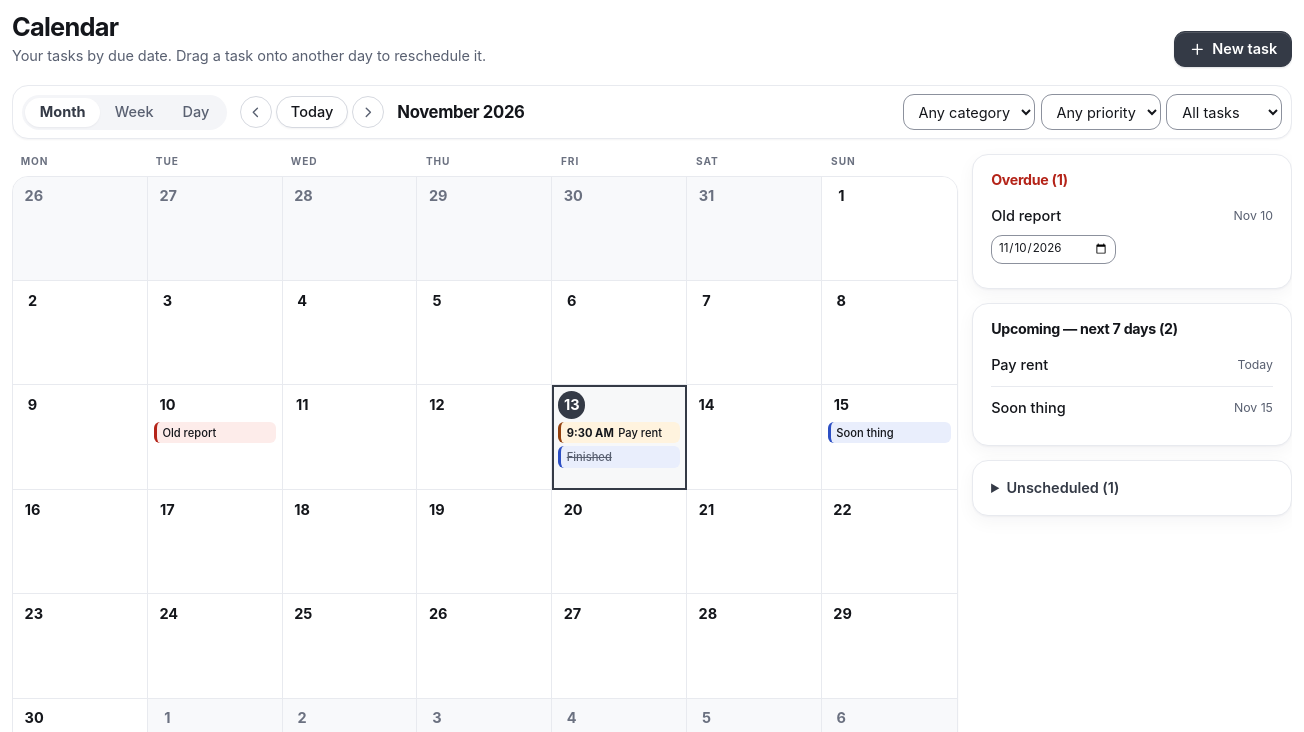
it: Calendar › filters by category, priority and status
Expected: the button "Pay rent" is shown, x1=558 y1=422 x2=680 y2=444
Select "Home" in the dropdown named "Filter by category" at (969, 112), box x1=903 y1=94 x2=1035 y2=130
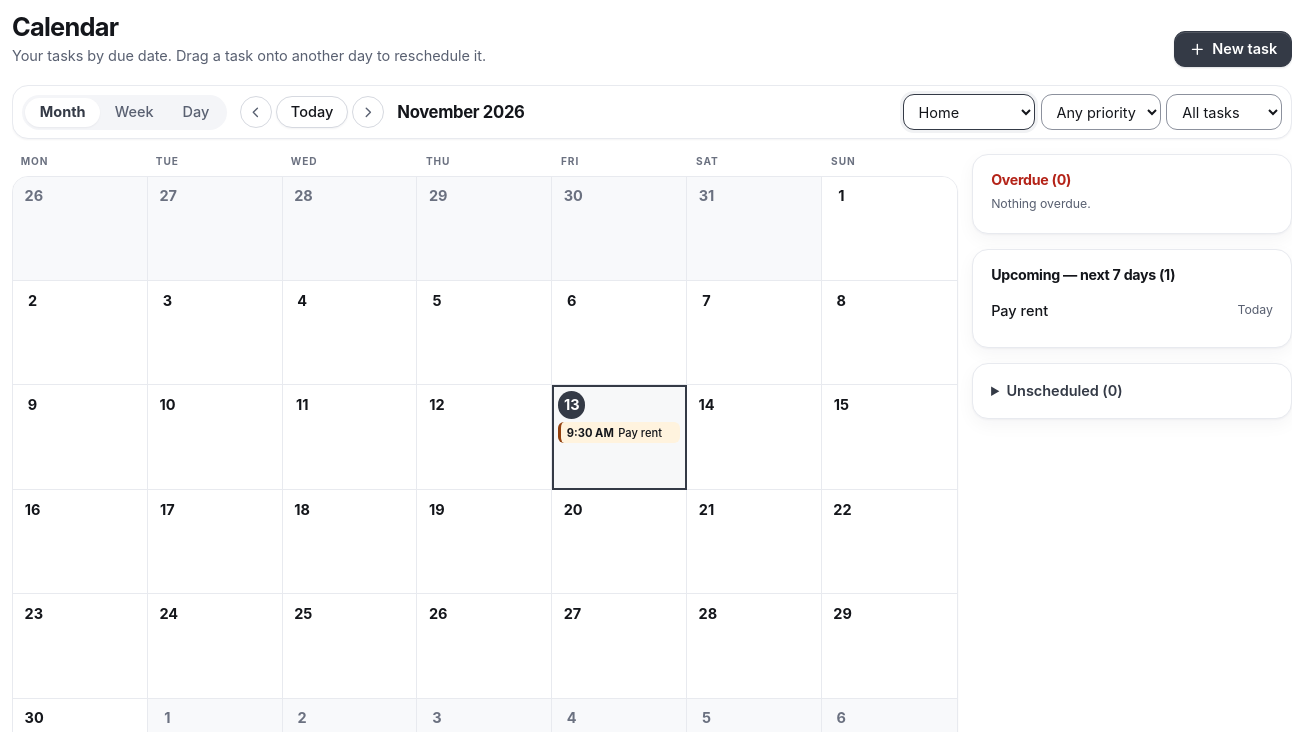
Expected: the button "Pay rent" is shown, x1=558 y1=422 x2=680 y2=444
Expected: the button "Finished" is gone
Select "Any category" in the dropdown named "Filter by category" at (969, 112), box x1=903 y1=94 x2=1035 y2=130
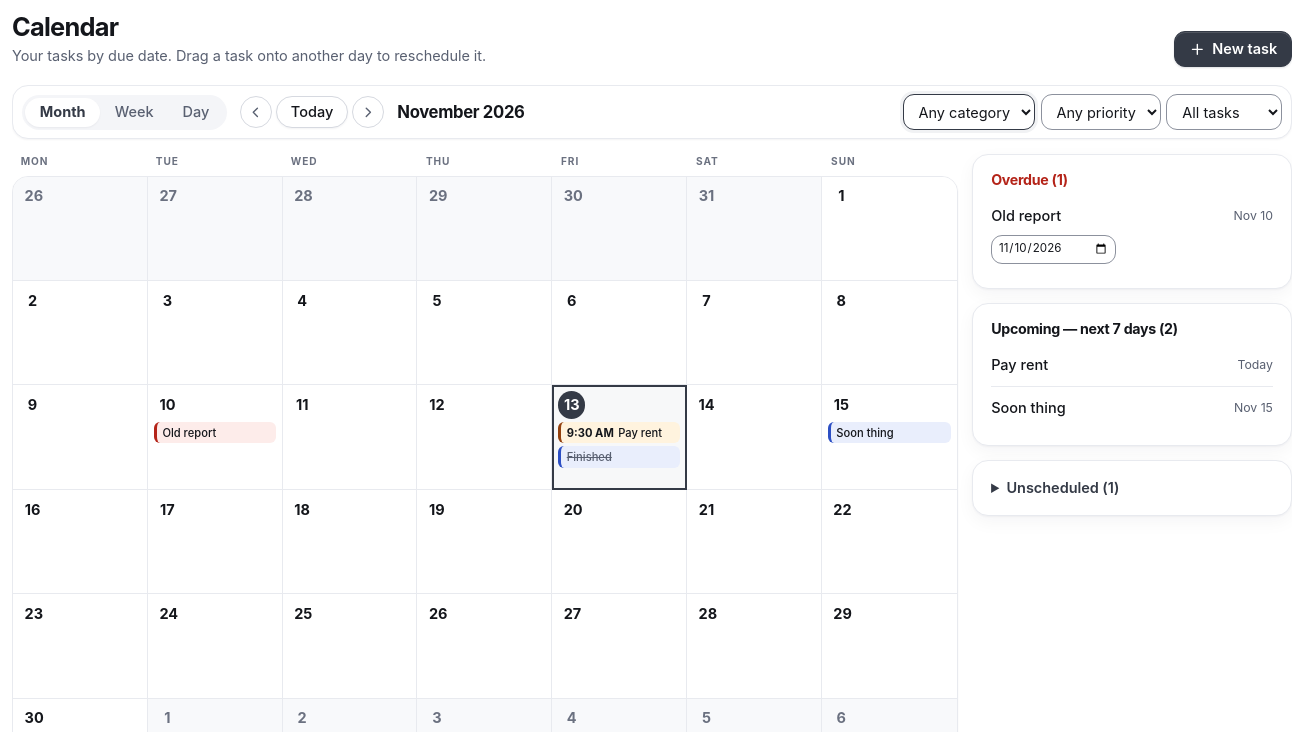
Select "Urgent" in the dropdown named "Filter by priority" at (1101, 112), box x1=1040 y1=94 x2=1161 y2=130
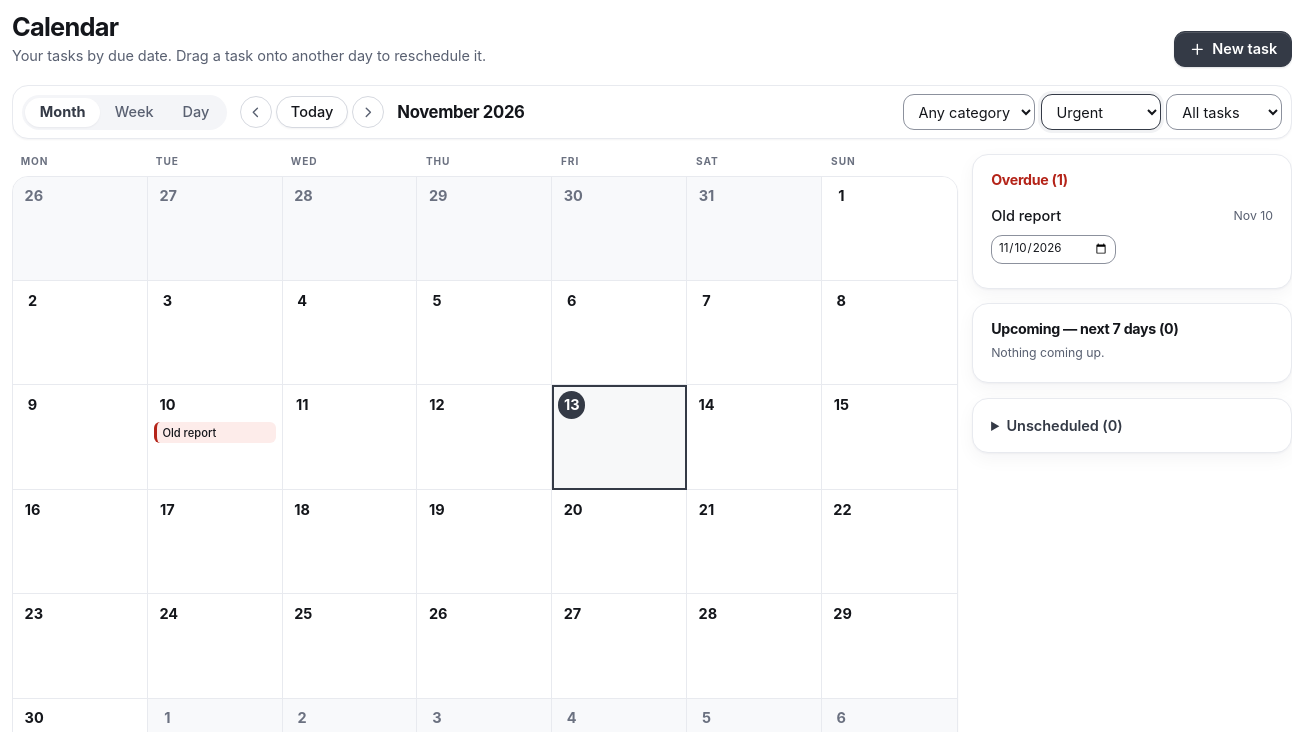
Expected: the button "Old report" below "Tue" is shown, x1=154 y1=422 x2=276 y2=444
Expected: the button "Pay rent" is gone
Select "Any priority" in the dropdown named "Filter by priority" at (1101, 112), box x1=1040 y1=94 x2=1161 y2=130
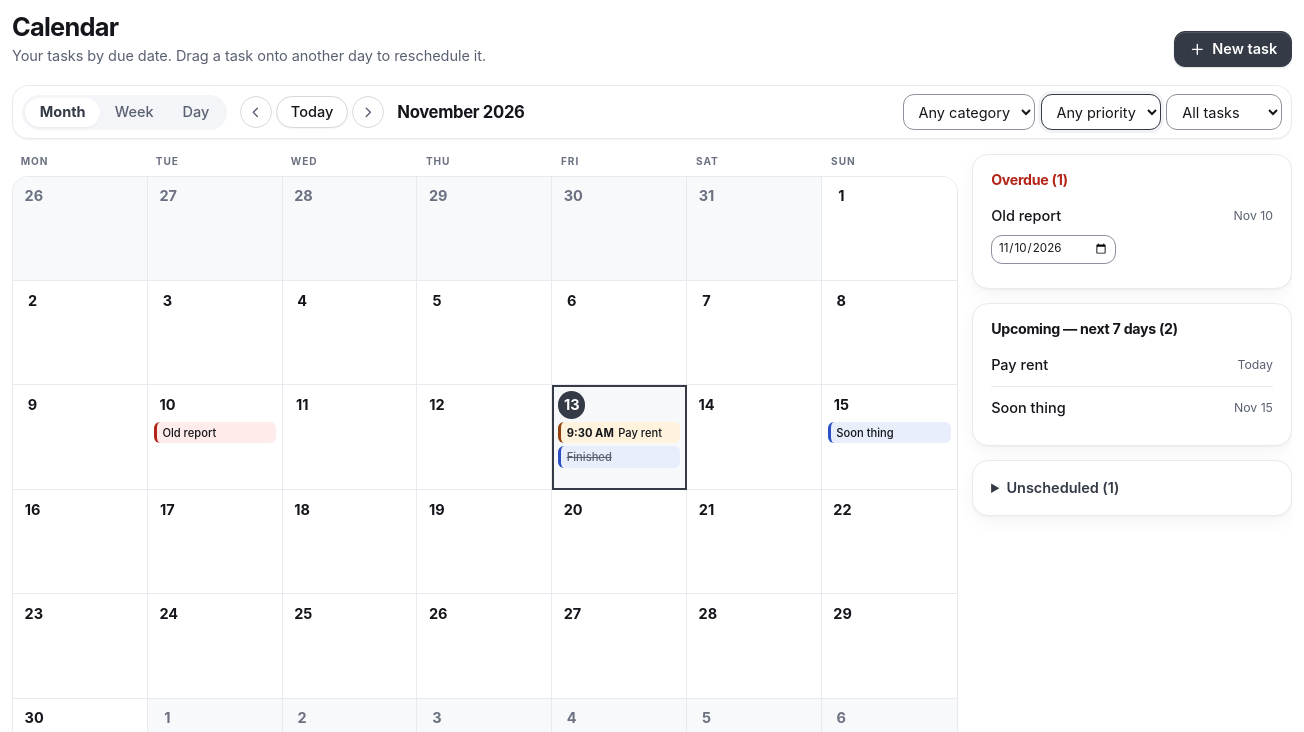
Select "Completed" in the dropdown named "Filter by status" at (1224, 112), box x1=1166 y1=94 x2=1282 y2=130
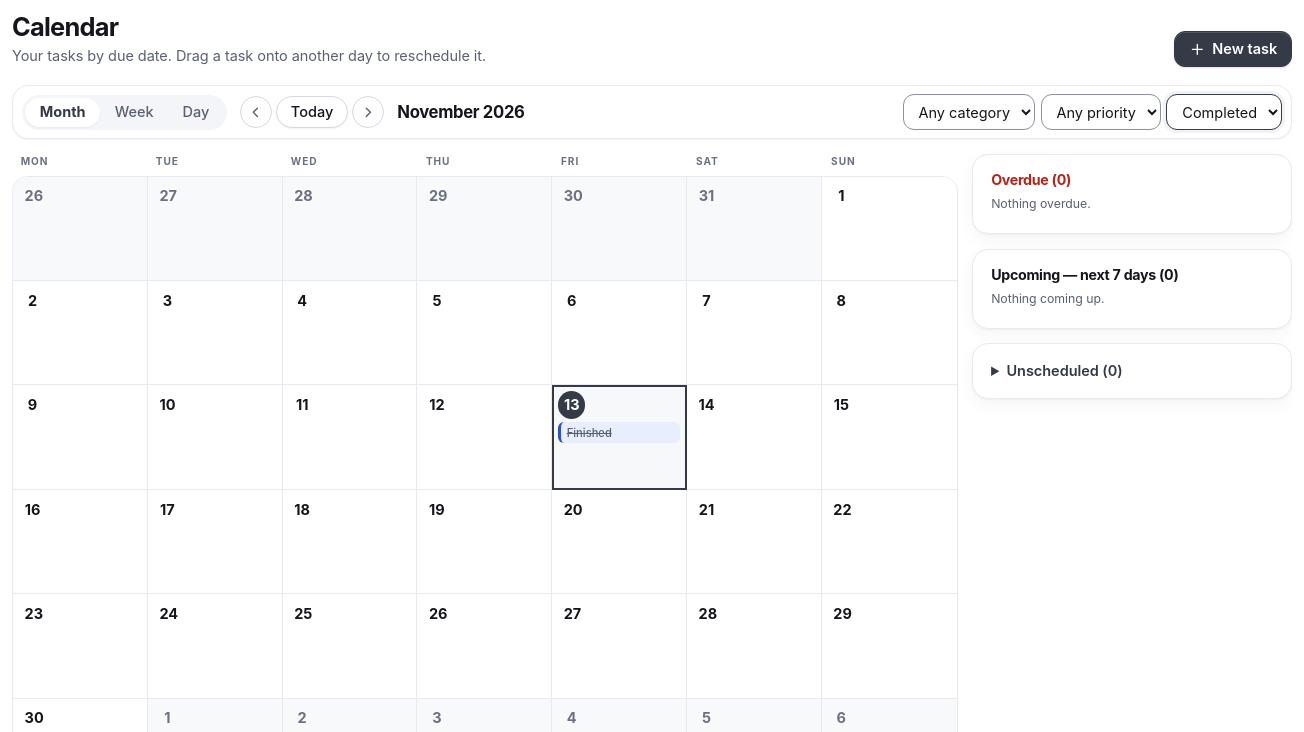
Expected: the button "Finished" is shown, x1=558 y1=422 x2=680 y2=444
Expected: the button "Pay rent" is gone
Select "Open" in the dropdown named "Filter by status" at (1224, 112), box x1=1166 y1=94 x2=1282 y2=130
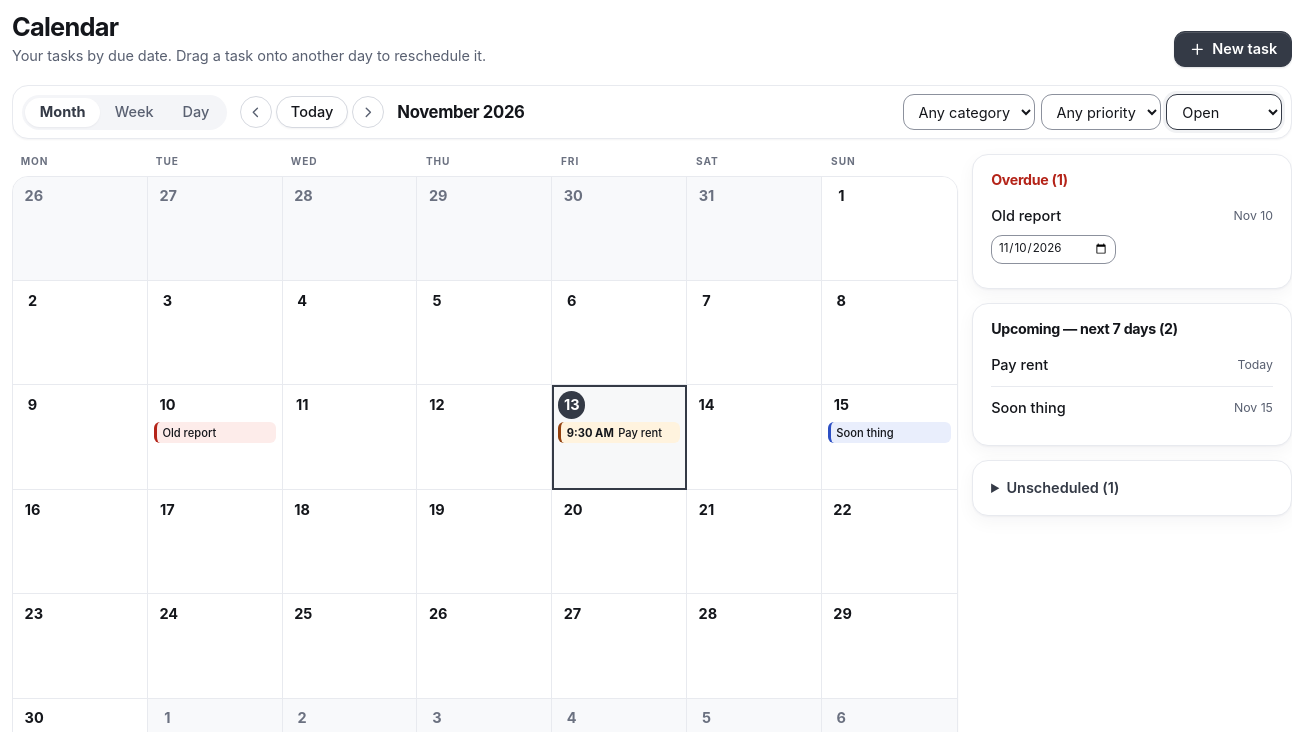
Expected: the button "Finished" is gone
